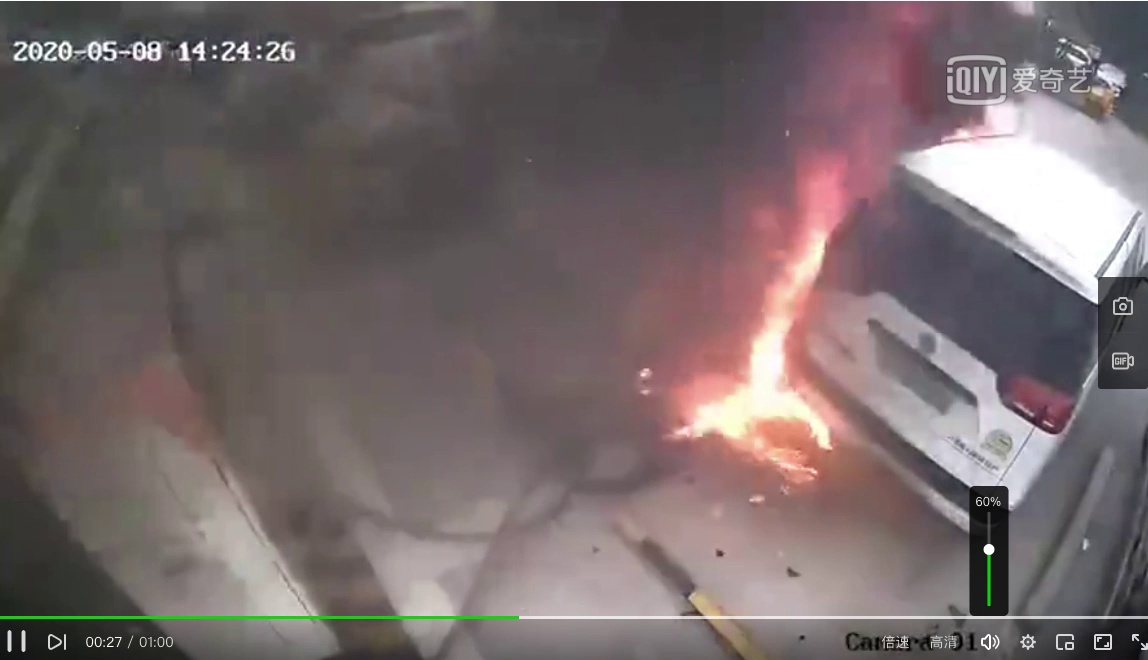fire: (693, 196, 861, 480)
smoke: (31, 29, 901, 473)
